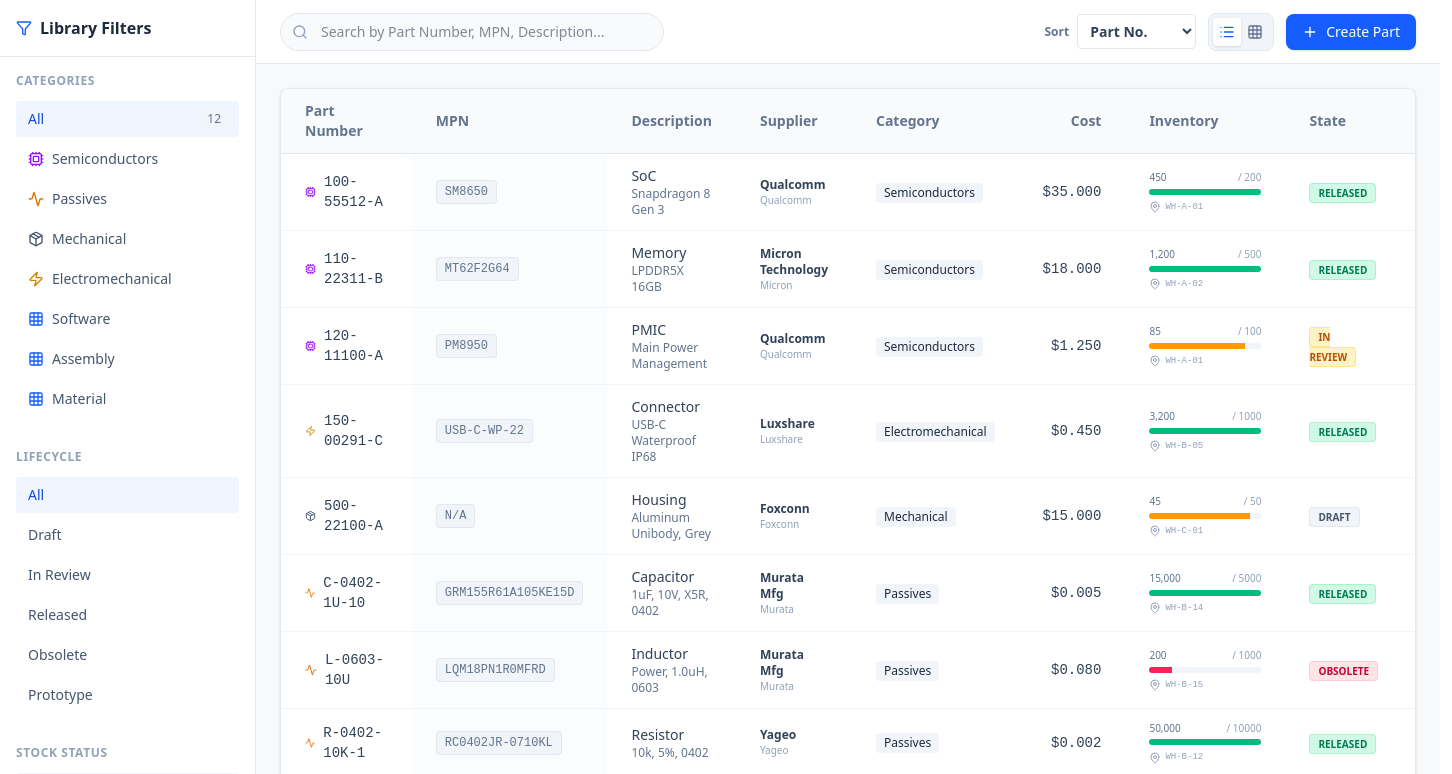
Test case: production core flows › edits tooling design-master links from Part Library
The image size is (1452, 774).
Type "100-55512-A" into the field with placeholder "Search by Part Number, MPN, Description..." at (472, 32), box [280,12,664,50]
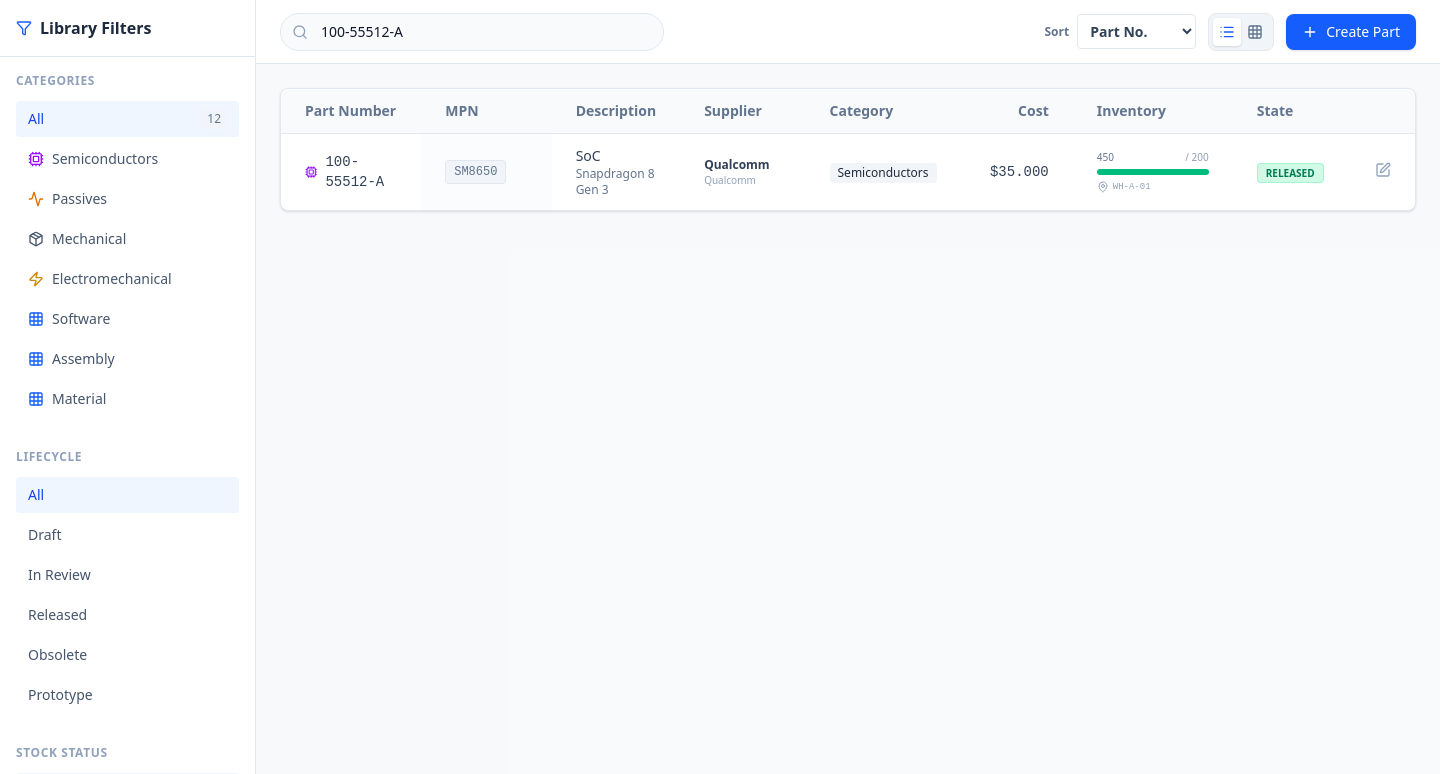
Click the text "100-55512-A" at (351, 172), box [305,152,397,192]
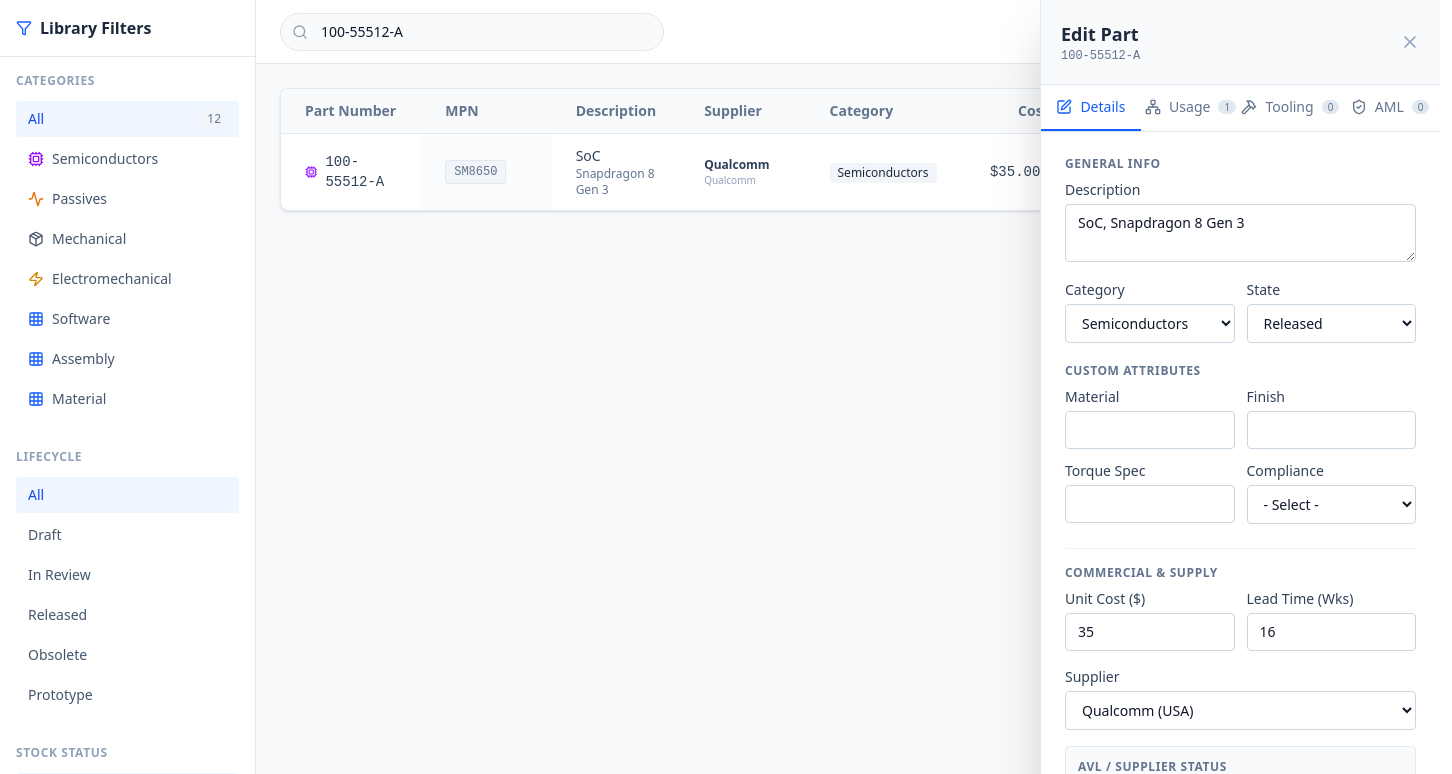
Click the button "Tooling 0" at (1290, 108), box [1240,85,1340,131]
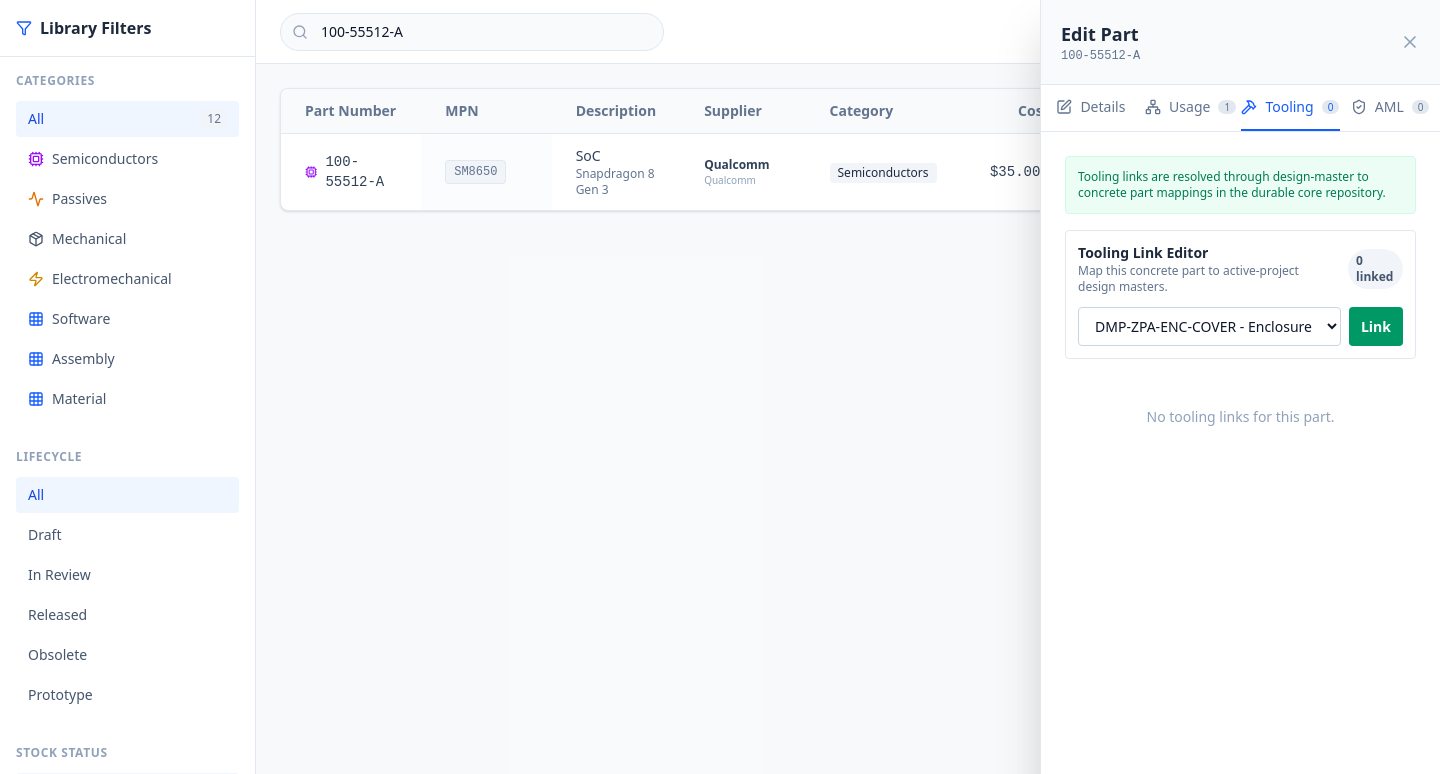
Result: the text "Tooling Link Editor" is shown at [1078,243,1208,262]
Result: the text "No tooling links for this part." is shown at [1146,407,1334,426]
Select "DMP-ZPA-ENC-COVER - Enclosure Cover" in the dropdown named "Design master to link" at (1209, 326), box [1078,307,1341,346]
Click the button "Link" at (1376, 326), box [1349,307,1403,346]
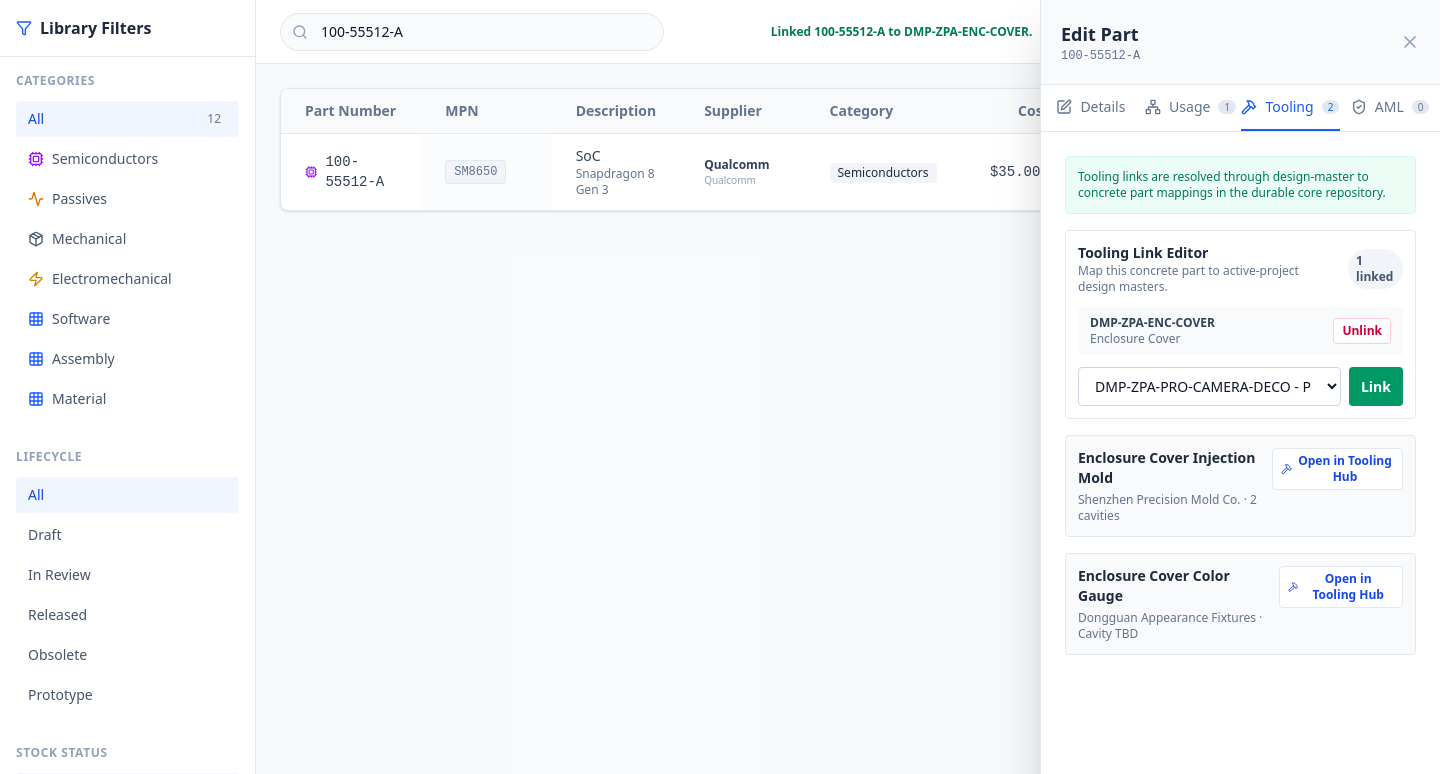
Result: the text "Enclosure Cover Injection Mold" is shown at [1078,448,1260,488]
Result: the text "DMP-ZPA-ENC-COVER" is shown at [1090,315,1215,331]
Click the button "Unlink" at (1362, 331), box [1333,318,1391,344]
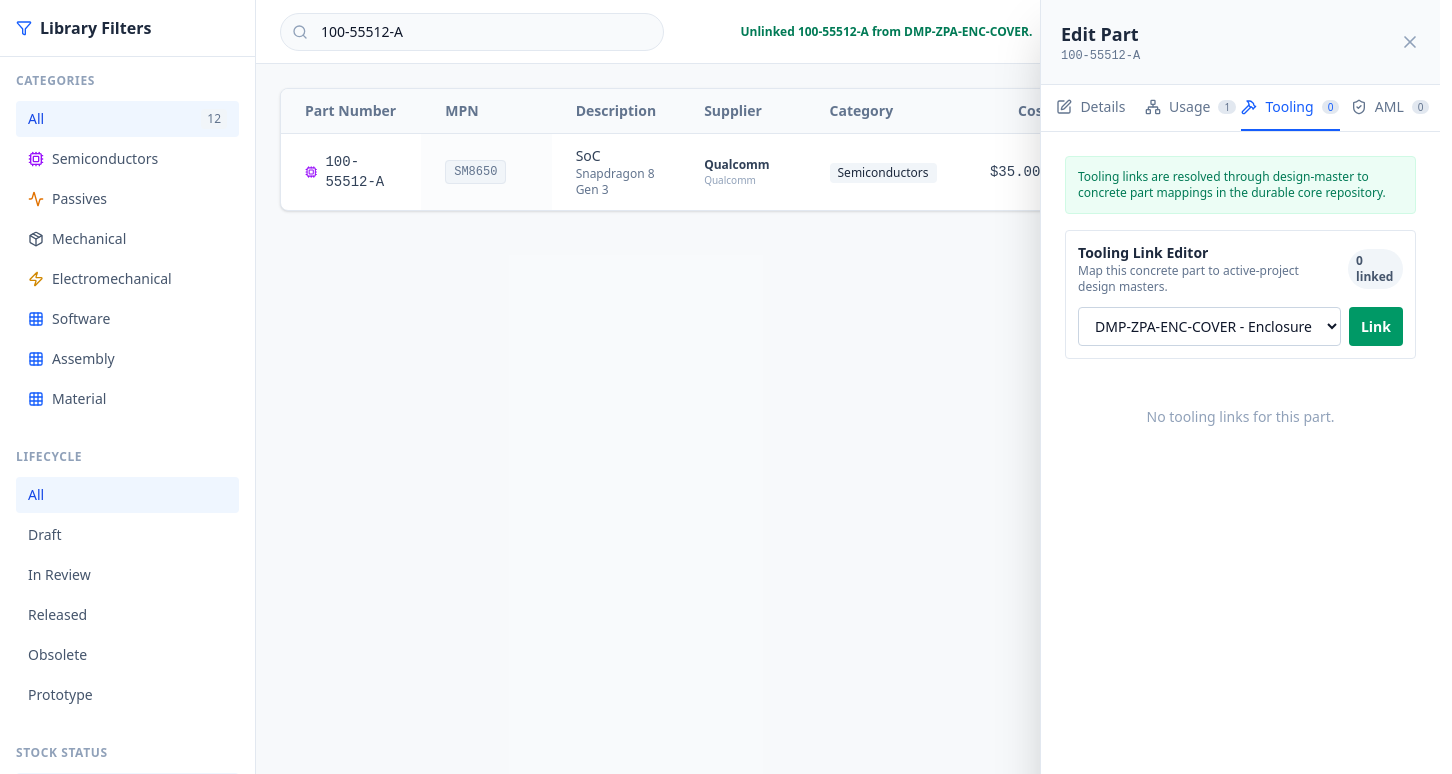
Result: the text "Enclosure Cover Injection Mold" is gone
Result: the text "No tooling links for this part." is shown at [1146,407,1334,426]
